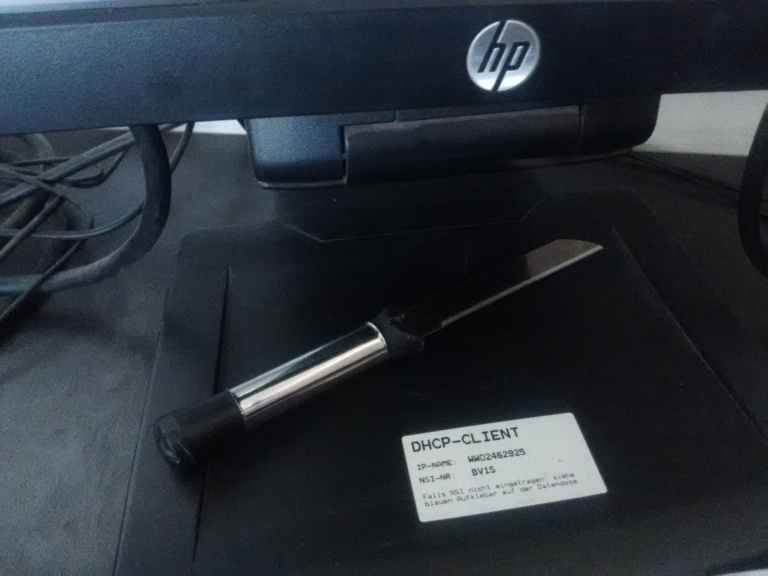knife: (149, 233, 609, 476)
